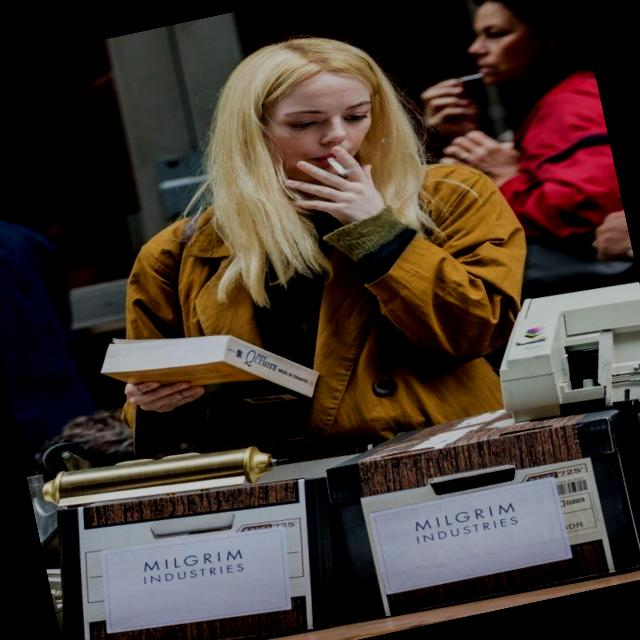smoke: (312, 151, 346, 183)
